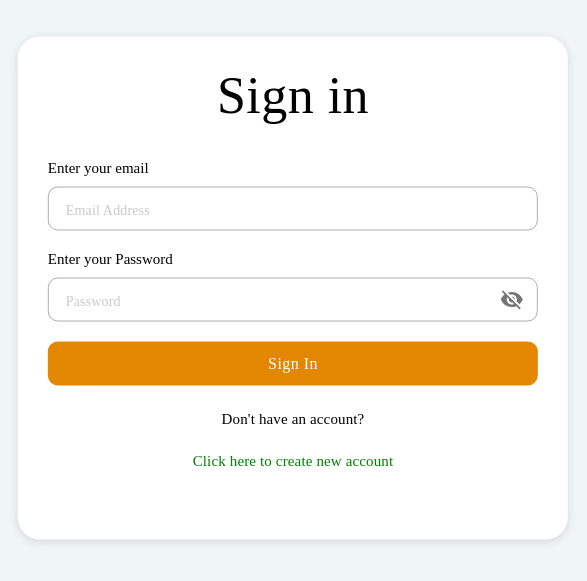
Scenario: Login › should navigate to home page if user exists, and display error message if user does not exist
// Fill in the form with valid user details
In the field with test id "email-input": (293, 208) [48, 186, 538, 230], type "test@example.com"
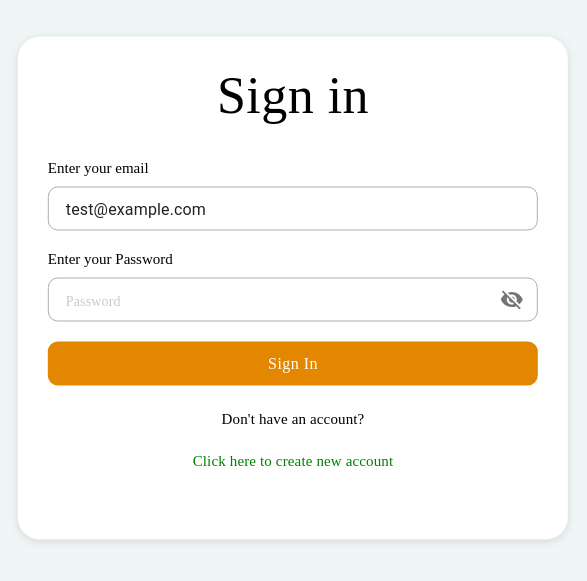
In the password field with test id "password-input": (270, 300) [48, 278, 492, 322], type "Password123"
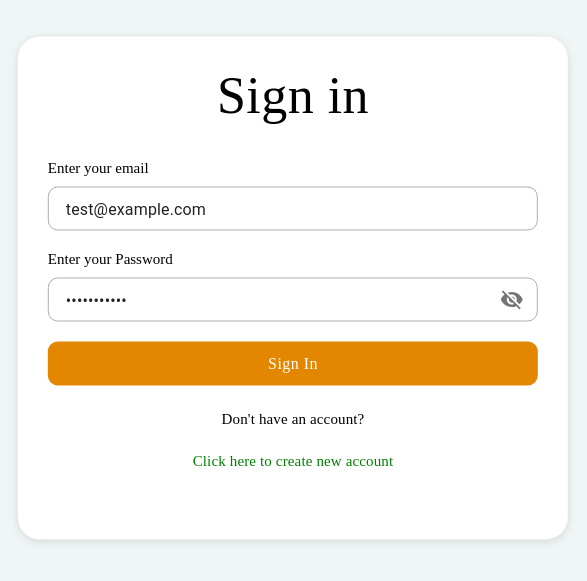
// Submit the form
Submit the form from the button with test id "submit-button", box [48, 342, 538, 386]
// Fill in the form with invalid user details
Replace the text in the field with test id "email-input" with "invalid@example.com": (293, 208) [48, 186, 538, 230]
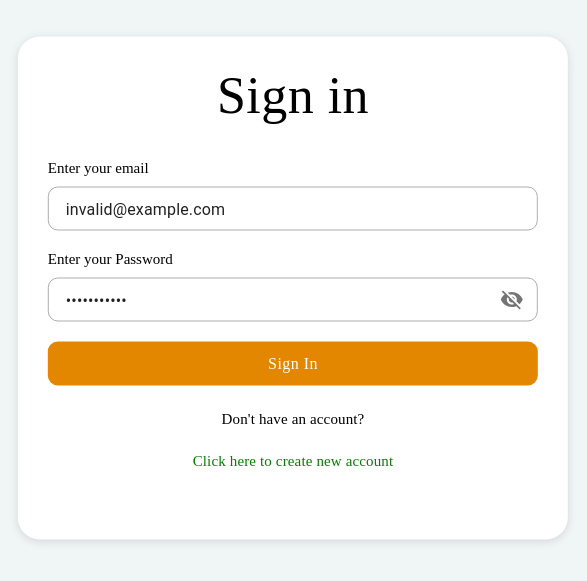
In the password field with test id "password-input": (270, 300) [48, 278, 492, 322], type "InvalidPassword"
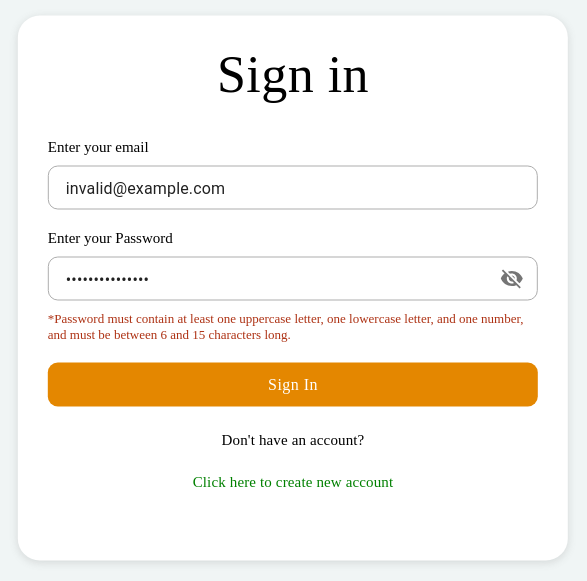
// Submit the form
Submit the form from the button with test id "submit-button", box [48, 362, 538, 406]
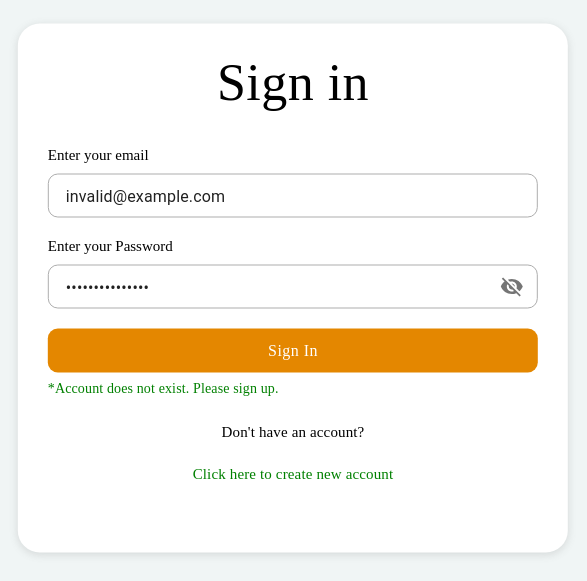
Expected: the text "*Account does not exist. Please sign up." is shown, [48, 380, 279, 396]
